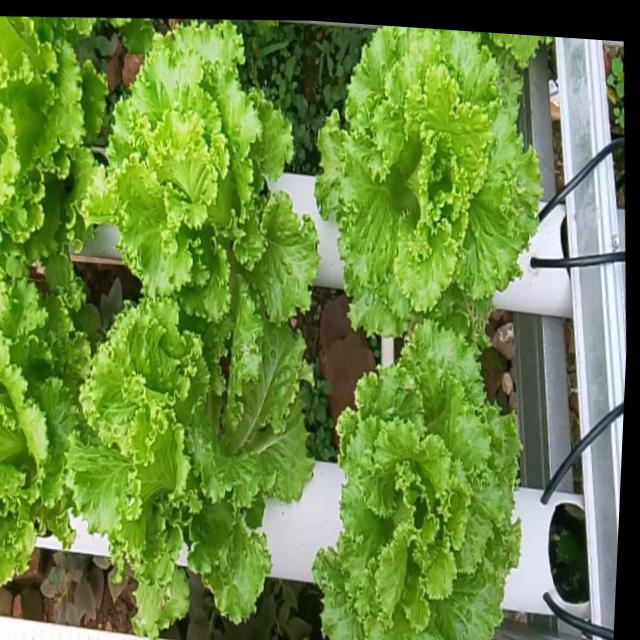Mature: (62, 298, 325, 640), (74, 34, 330, 340), (324, 299, 542, 640), (325, 31, 562, 342)
